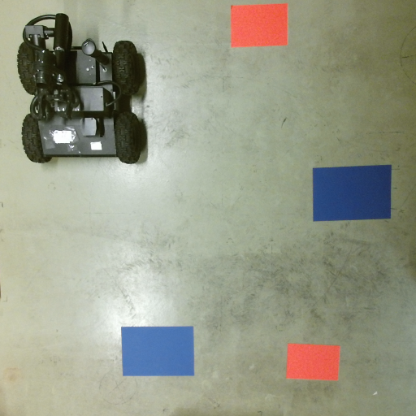Blue: (309, 165, 394, 222), (119, 326, 198, 376)
Jaguar: (15, 10, 146, 165)
Red: (228, 3, 291, 48), (284, 342, 343, 384)
